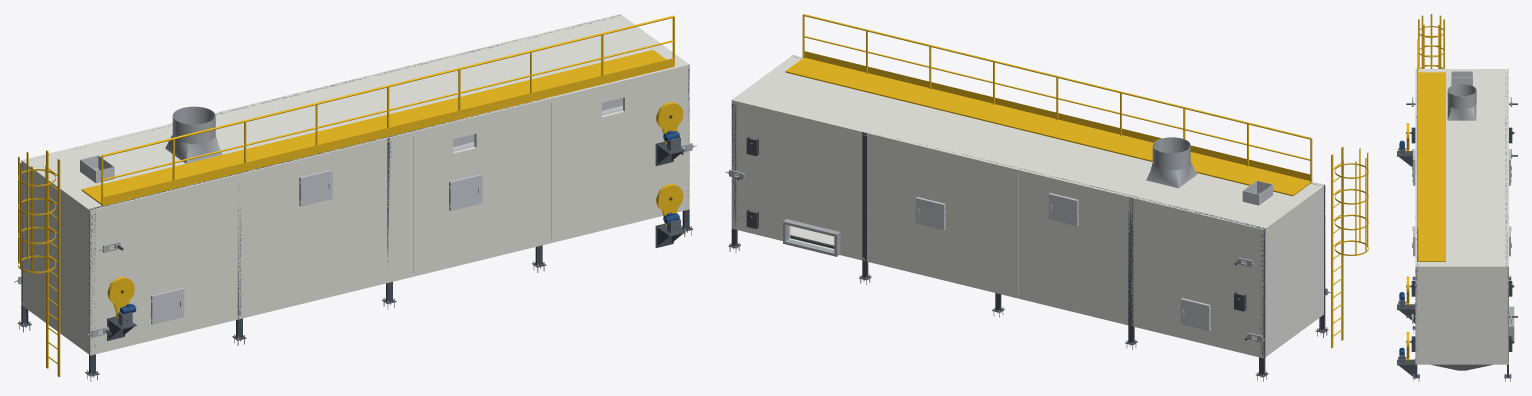
Rendered from Secador_SC4.glb.
3 views of the same model, side by side, from view 1: azimuth 30°, elevation 25°; view 2: azimuth 150°, elevation 25°; view 3: azimuth 270°, elevation 25° (orthographic). The views are drawn at different scales.
Parts seen in each view (by area): view 1: P009_5375f3, P007, P067_5079d1, P005, P005_4e480e, P005_6f049c, P005_b73307, P005_ae4532, P005_6149e5, P005_715a16, P005_a320fc, P005_8d1b48 (+17 smaller); view 2: P009_5375f3, P067_5079d1, P007, P006_48cf9c, P006_d6ceb4, P006_f3259c, P006_0c3cf1, P006_bc6607, P006_af92bd, P006_1345a7, P006_01d22c, P006_1c469c (+20 smaller); view 3: P009_5375f3, P008_d950da, P067_5079d1, P006, P063_d56dbe, P005_5bbb73, P067_0fda26, P005, P009_71670a, P006_7cf345, P063_3e0676, P010_ff180f (+11 smaller).
Part boxes in pixels (left/top/right/bottom): P009_5375f3: left=21, top=14, right=688, bottom=210; P007: left=23, top=162, right=88, bottom=349; P067_5079d1: left=82, top=50, right=666, bottom=203; P005: left=89, top=63, right=686, bottom=227; P005_4e480e: left=228, top=166, right=274, bottom=318; P005_6f049c: left=182, top=178, right=228, bottom=332; P005_b73307: left=505, top=98, right=551, bottom=250; P005_ae4532: left=551, top=91, right=597, bottom=238; P005_6149e5: left=367, top=132, right=412, bottom=286; P005_715a16: left=413, top=125, right=459, bottom=276; P005_a320fc: left=321, top=146, right=366, bottom=296; P005_8d1b48: left=275, top=155, right=320, bottom=308; P009_5375f3: left=732, top=55, right=1321, bottom=229; P067_5079d1: left=785, top=58, right=1310, bottom=194; P007: left=1266, top=186, right=1323, bottom=353; P006_48cf9c: left=977, top=160, right=1017, bottom=298; P006_d6ceb4: left=1141, top=202, right=1181, bottom=338; P006_f3259c: left=936, top=150, right=977, bottom=288; P006_0c3cf1: left=1100, top=190, right=1140, bottom=328; P006_bc6607: left=1018, top=170, right=1058, bottom=307; P006_af92bd: left=895, top=140, right=936, bottom=278; P006_1345a7: left=731, top=101, right=772, bottom=237; P006_01d22c: left=1223, top=223, right=1263, bottom=357; P006_1c469c: left=1059, top=180, right=1099, bottom=317; P009_5375f3: left=1415, top=69, right=1508, bottom=266; P008_d950da: left=1418, top=266, right=1505, bottom=364; P067_5079d1: left=1418, top=72, right=1445, bottom=260; P006: left=1506, top=69, right=1508, bottom=266; P063_d56dbe: left=1447, top=91, right=1476, bottom=109; P005_5bbb73: left=1415, top=267, right=1418, bottom=363; P067_0fda26: left=1417, top=39, right=1418, bottom=227; P005: left=1415, top=69, right=1418, bottom=266; P009_71670a: left=1415, top=266, right=1508, bottom=269; P006_7cf345: left=1506, top=267, right=1508, bottom=364; P063_3e0676: left=1448, top=84, right=1476, bottom=95; P010_ff180f: left=1415, top=362, right=1508, bottom=364.
Bounding box in the file's own units: 14.36 × 4.73 × 3.35.
